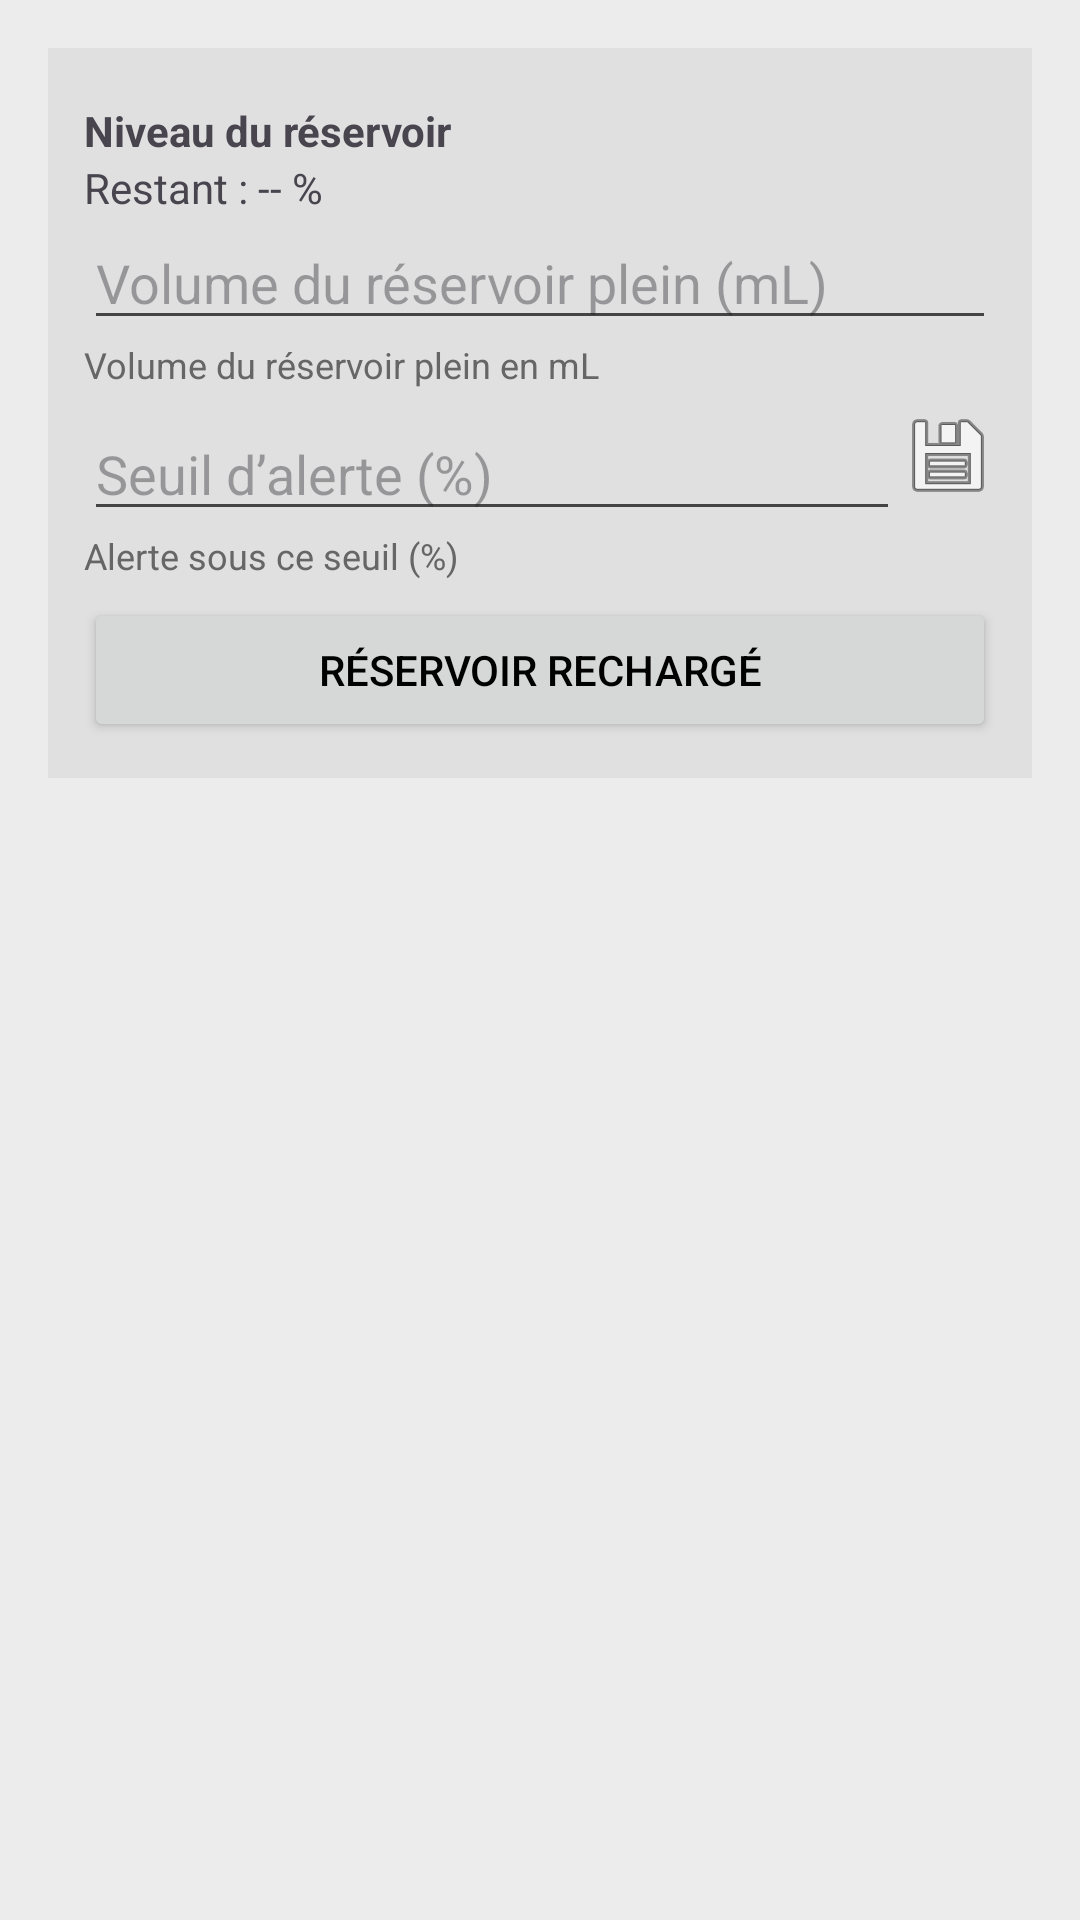

Where icons sit on this 1080*1920 app screen, as detection(x1, y1, x2, y2):
Valider le seuil: detection(912, 419, 984, 492)
